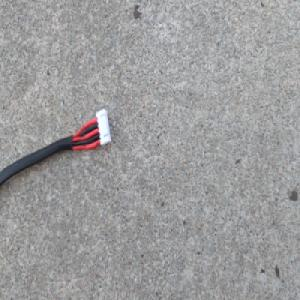Wire: (0, 105, 113, 193)
